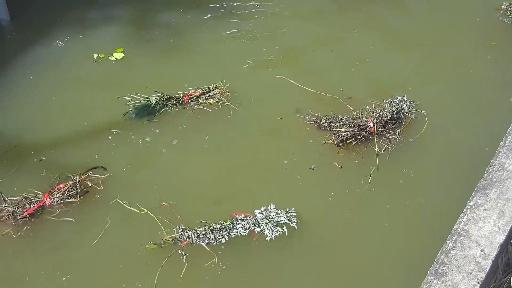leaf: (84, 44, 129, 71)
twig: (277, 72, 436, 187), (106, 195, 311, 273), (0, 157, 116, 228), (113, 81, 248, 122), (503, 0, 512, 27)
